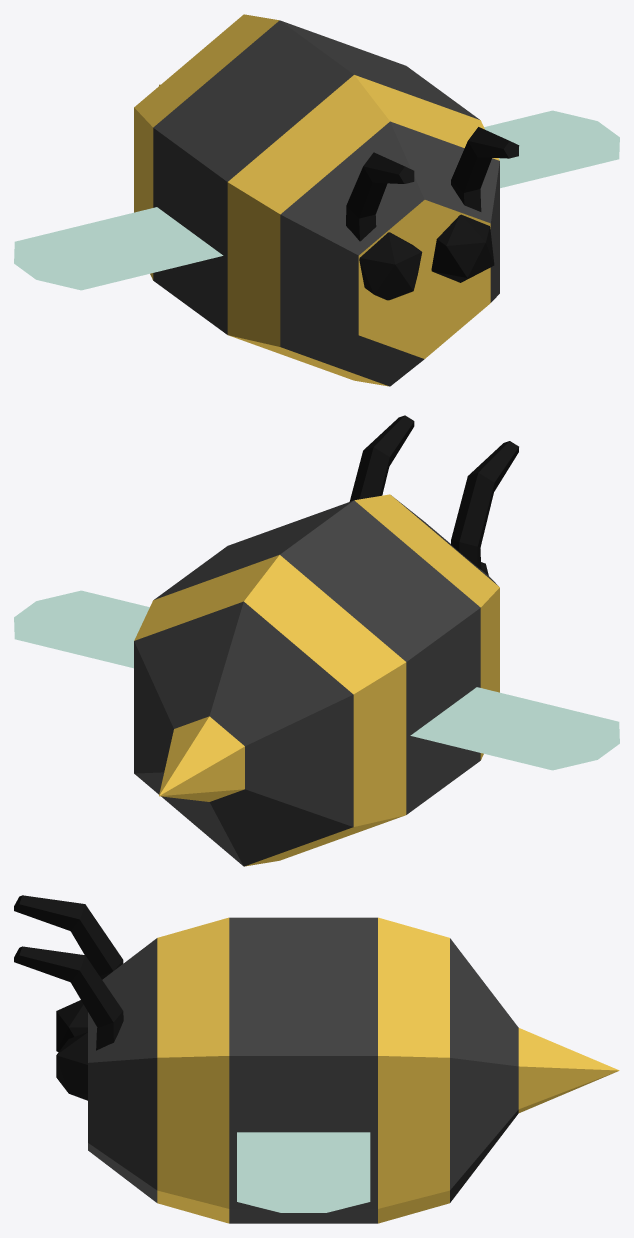
The model's file is bee.gltf.
The picture shows the model from 3 angles, top to bottom: view 1: azimuth 30°, elevation 25°; view 2: azimuth 150°, elevation 25°; view 3: azimuth 270°, elevation 25°; orthographic projection.
Parts seen in each view (by area): view 1: Cylinder.001; view 2: Cylinder.001; view 3: Cylinder.001.
Boxes of the visible parts, x1,y1,x2,y2 form: Cylinder.001: (14,14,619,386); Cylinder.001: (14,415,619,866); Cylinder.001: (14,895,619,1223).
Bounding box in the file's own units: 4.61 × 2.31 × 4.14.
